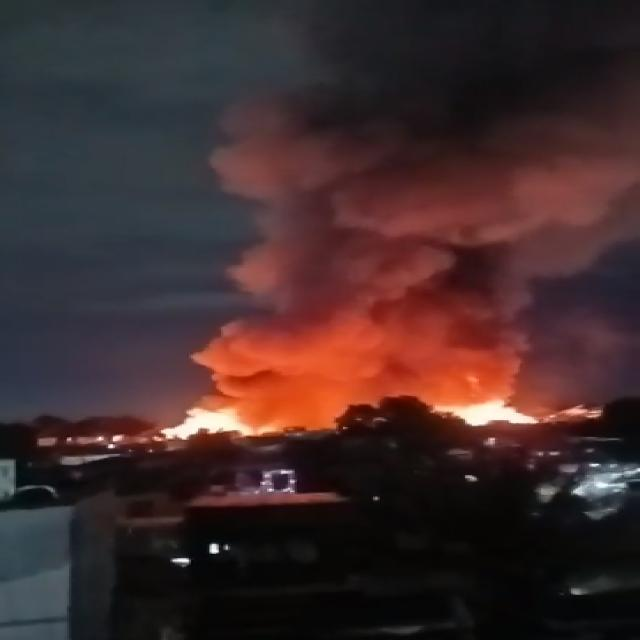Fire: (207, 0, 640, 433), (426, 394, 546, 428), (157, 410, 259, 438)
